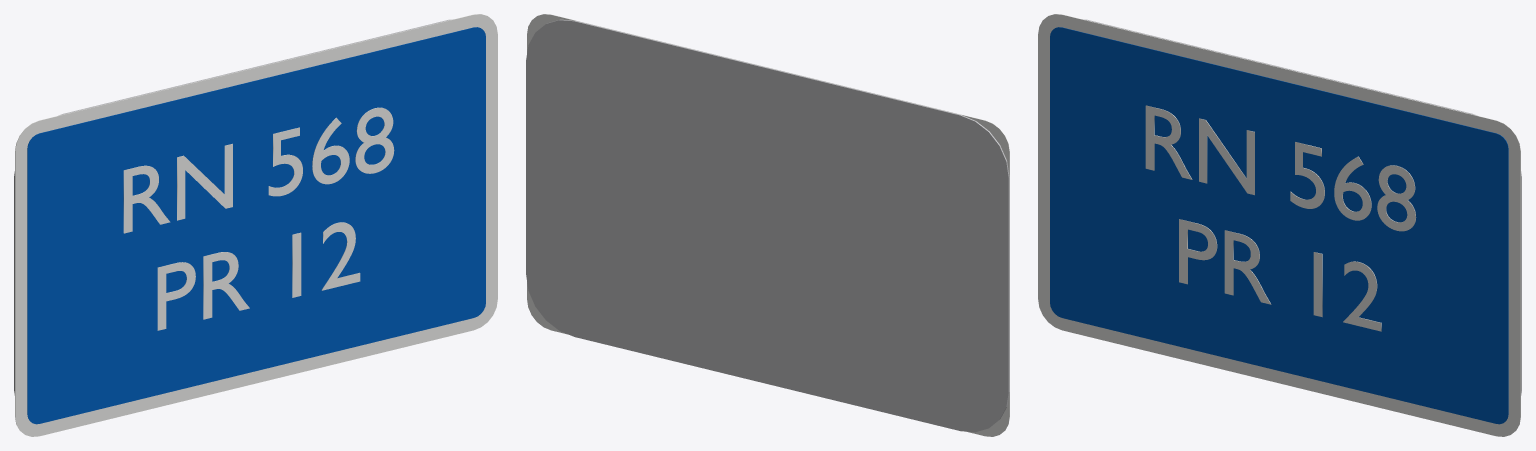
3 views of the same model, side by side, from view 1: azimuth 30°, elevation 25°; view 2: azimuth 150°, elevation 25°; view 3: azimuth 330°, elevation 25° (orthographic).
Parts seen in each view (by area): view 1: E57_fond01, E57_cadre00, E57_txt02, E57_txt03, E57_dos; view 2: E57_dos, E57_cadre00; view 3: E57_fond01, E57_cadre00, E57_txt02, E57_txt03, E57_dos.
Boxes of the visible parts, bbox=[...] form: E57_fond01: bbox=[27, 27, 485, 424]; E57_cadre00: bbox=[15, 14, 497, 436]; E57_txt02: bbox=[123, 107, 394, 233]; E57_txt03: bbox=[157, 222, 360, 330]; E57_dos: bbox=[14, 19, 452, 395]; E57_dos: bbox=[526, 19, 1009, 432]; E57_cadre00: bbox=[527, 14, 1009, 436]; E57_fond01: bbox=[1050, 27, 1508, 424]; E57_cadre00: bbox=[1038, 14, 1520, 436]; E57_txt02: bbox=[1145, 105, 1416, 231]; E57_txt03: bbox=[1179, 219, 1381, 331]; E57_dos: bbox=[1083, 19, 1521, 395].
Bounding box in the file's own units: 0.4 × 0.25 × 0.0029.
